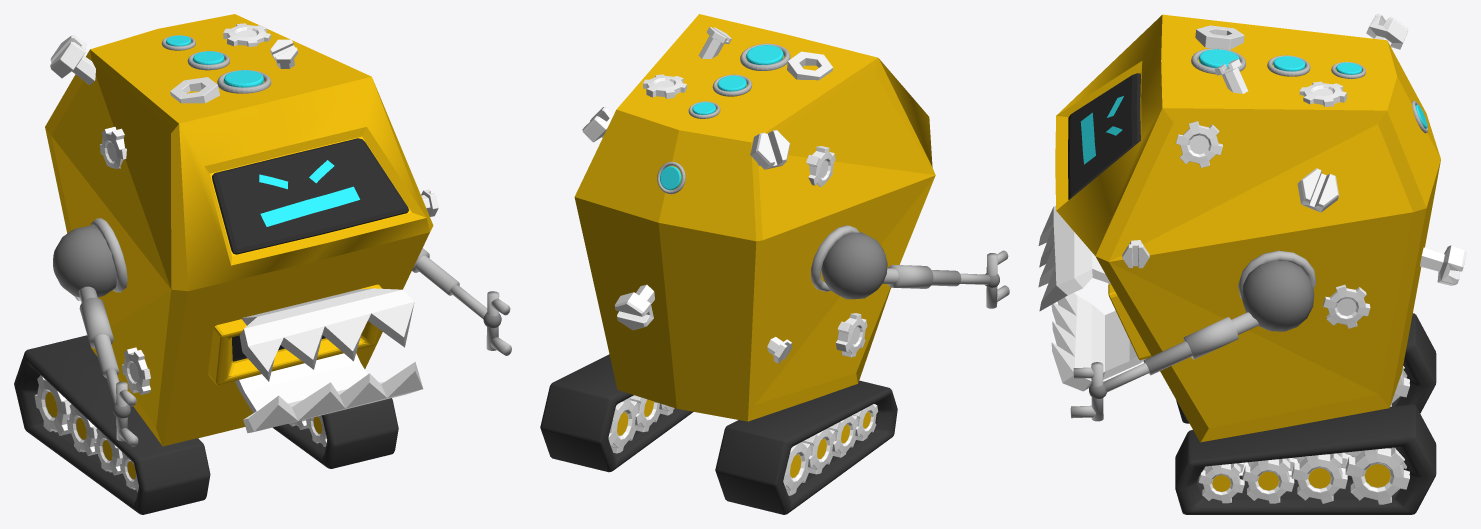
File: enemy_yellow.fbx
3 views of the same model, side by side, from view 1: azimuth 30°, elevation 25°; view 2: azimuth 150°, elevation 25°; view 3: azimuth 270°, elevation 25° (orthographic). The views are drawn at different scales.
Visible parts, largest first — view 1: enemy.005, enemy.007, enemy.008, enemy.006; view 2: enemy.005, enemy.007, enemy.006, enemy.008; view 3: enemy.005, enemy.007, enemy.006, enemy.008.
Part boxes in pixels (<box>): enemy.005: <box>34,14,438,492</box>; enemy.007: <box>14,335,398,514</box>; enemy.008: <box>78,248,511,446</box>; enemy.006: <box>53,218,127,297</box>; enemy.005: <box>574,14,935,495</box>; enemy.007: <box>540,354,897,514</box>; enemy.006: <box>811,225,887,299</box>; enemy.008: <box>883,250,1009,308</box>; enemy.005: <box>1038,14,1466,504</box>; enemy.007: <box>1175,313,1436,514</box>; enemy.006: <box>1238,250,1316,331</box>; enemy.008: <box>1070,312,1258,421</box>.
Size of the model in its own units: 245 by 252 by 236.
